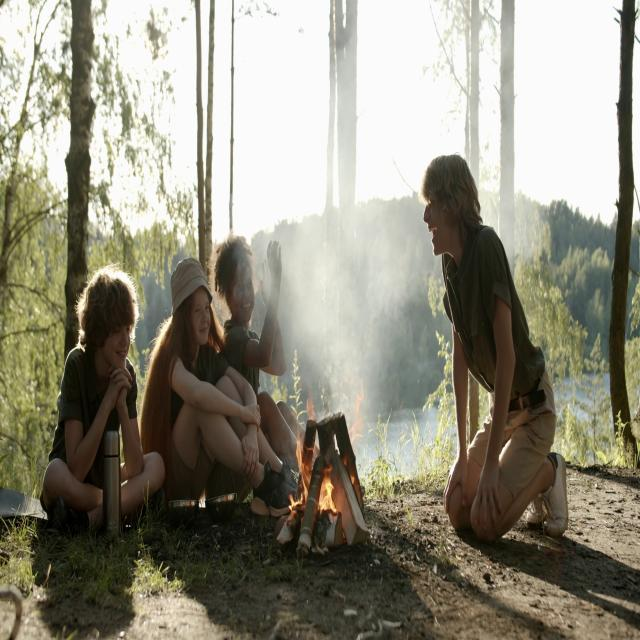Fire: (290, 428, 333, 524)
Smoke: (266, 195, 424, 448)
